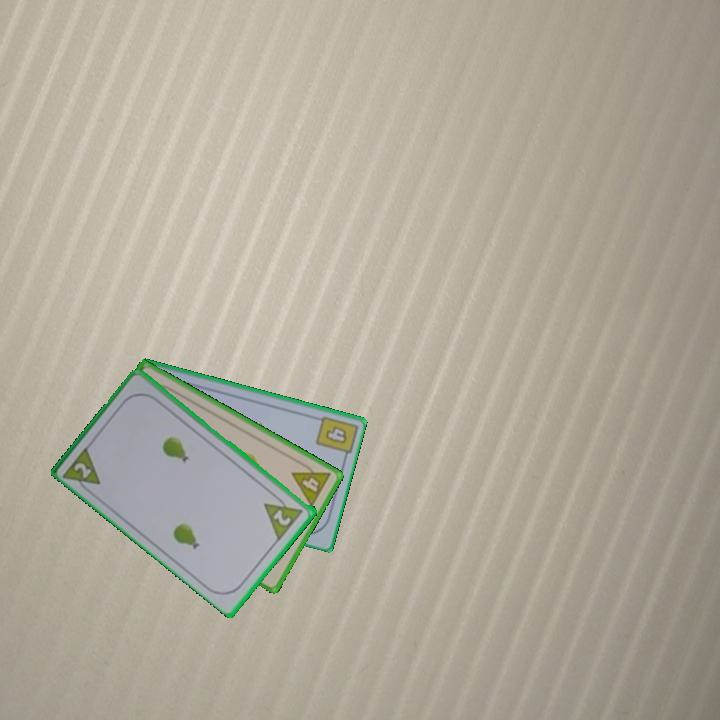2p: (260, 489, 306, 542), (60, 442, 104, 497)
4b: (322, 422, 350, 446)
4p: (288, 457, 334, 510)
